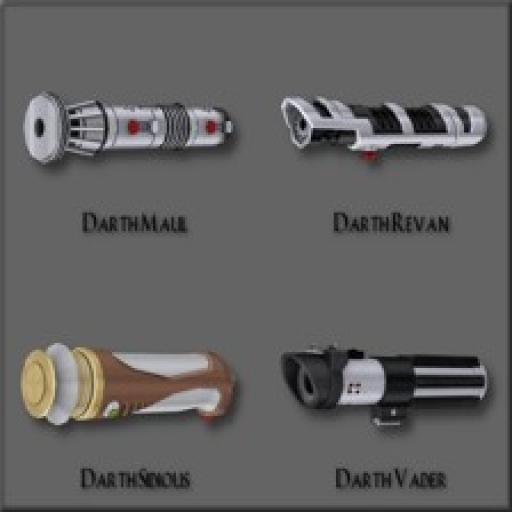lightsaber: (21, 88, 242, 187), (15, 343, 240, 431), (278, 346, 493, 436), (279, 94, 488, 164)
